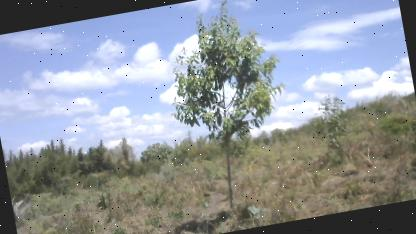tree: (150, 0, 307, 216)
